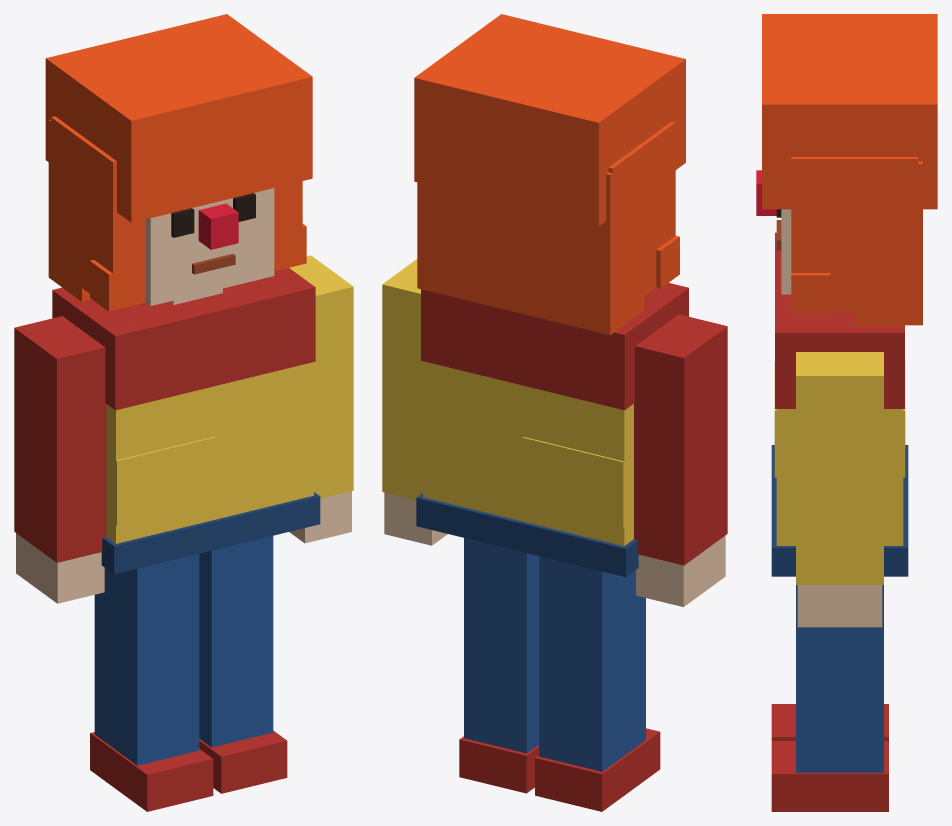
The model's file is clown_1.glb.
The picture shows the model from 3 angles, left to right: view 1: azimuth 30°, elevation 25°; view 2: azimuth 150°, elevation 25°; view 3: azimuth 270°, elevation 25°; orthographic projection. The views are drawn at different scales.
Visible parts, largest first — view 1: Box20, Box10, Box9, Box7, Box5, Box1, Box24, Box3, Box14, Box11, Box12, Box6 (+8 smaller); view 2: Box20, Box21, Box7, Box9, Box5, Box10, Box1, Box3, Box24, Box11, Box12, Box6 (+4 smaller); view 3: Box20, Box3, Box22, Box1, Box21, Box10, Box2, Box9, Box4, Box12, Box23, Box6 (+3 smaller).
Part boxes in pixels (left/top/right/bottom): Box20: left=45, top=14, right=312, bottom=222; Box10: left=52, top=268, right=315, bottom=410; Box9: left=106, top=362, right=313, bottom=543; Box7: left=14, top=316, right=106, bottom=562; Box5: left=94, top=554, right=199, bottom=765; Box1: left=199, top=536, right=273, bottom=747; Box24: left=51, top=116, right=145, bottom=310; Box3: left=289, top=255, right=353, bottom=498; Box14: left=146, top=188, right=274, bottom=305; Box11: left=106, top=436, right=215, bottom=525; Box12: left=101, top=492, right=320, bottom=574; Box6: left=90, top=732, right=213, bottom=811; Box20: left=414, top=14, right=685, bottom=226; Box21: left=417, top=153, right=644, bottom=335; Box7: left=634, top=314, right=727, bottom=565; Box9: left=423, top=361, right=633, bottom=545; Box5: left=539, top=556, right=645, bottom=771; Box10: left=421, top=282, right=688, bottom=410; Box1: left=464, top=538, right=539, bottom=753; Box3: left=382, top=259, right=422, bottom=499; Box24: left=608, top=121, right=675, bottom=317; Box11: left=522, top=437, right=633, bottom=527; Box12: left=416, top=493, right=638, bottom=577; Box6: left=535, top=728, right=660, bottom=811; Box20: left=762, top=14, right=937, bottom=209; Box3: left=796, top=352, right=883, bottom=584; Box22: left=791, top=157, right=917, bottom=311; Box1: left=796, top=585, right=883, bottom=772; Box21: left=854, top=161, right=922, bottom=325; Box10: left=775, top=232, right=904, bottom=408; Box2: left=771, top=741, right=888, bottom=811; Box9: left=776, top=409, right=903, bottom=545; Box4: left=797, top=585, right=882, bottom=627; Box12: left=771, top=445, right=908, bottom=576; Box23: left=791, top=273, right=830, bottom=313; Box6: left=771, top=704, right=888, bottom=740.
Size of the model in its own units: 0.8165 by 1.84 by 0.4212.
